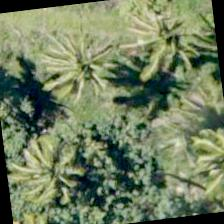Kelapa_Sawit: (28, 18, 128, 118), (13, 122, 113, 222), (34, 17, 134, 117)
